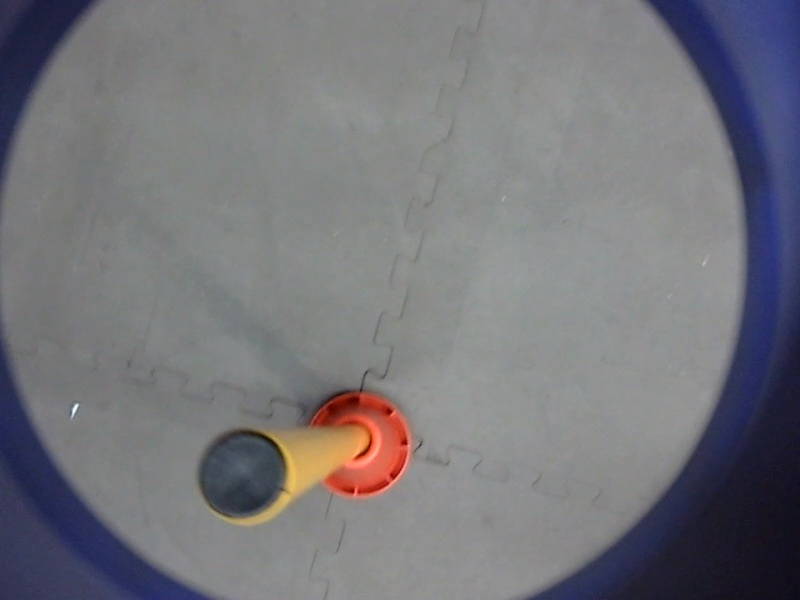tip: (191, 420, 302, 532)
